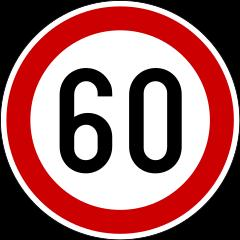Speed Limit -60-: (39, 47, 186, 192)
